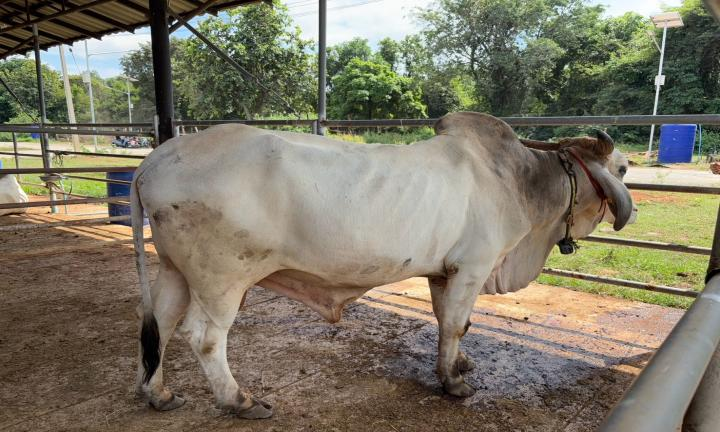Brahman: (130, 112, 635, 418)
